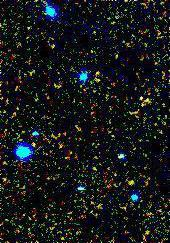star: (118, 170, 148, 200)
